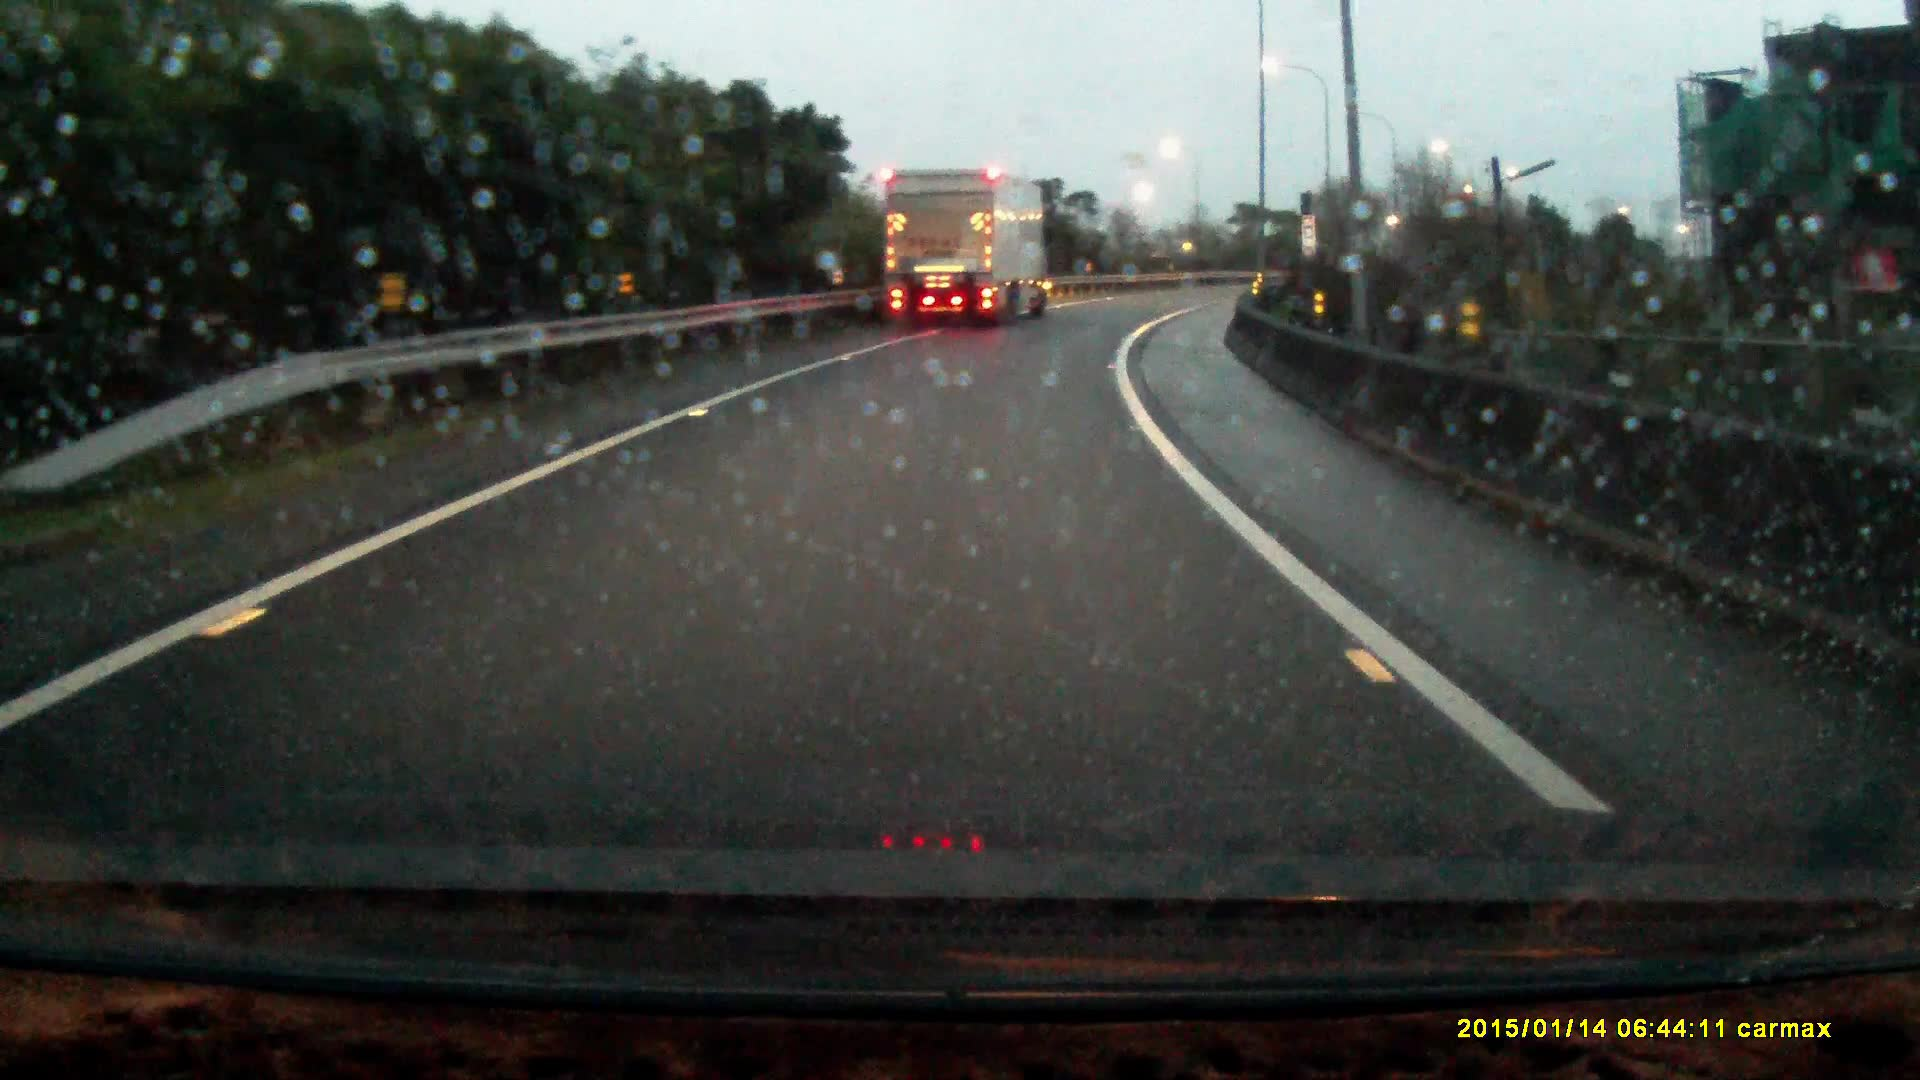vehicle: (885, 169, 1048, 327)
